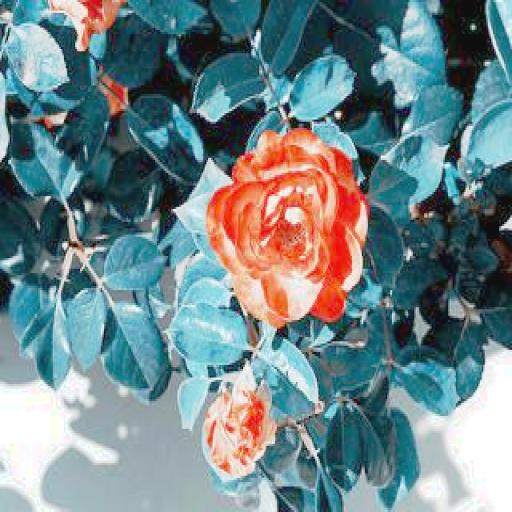rose: (204, 128, 370, 318), (203, 392, 267, 472)
